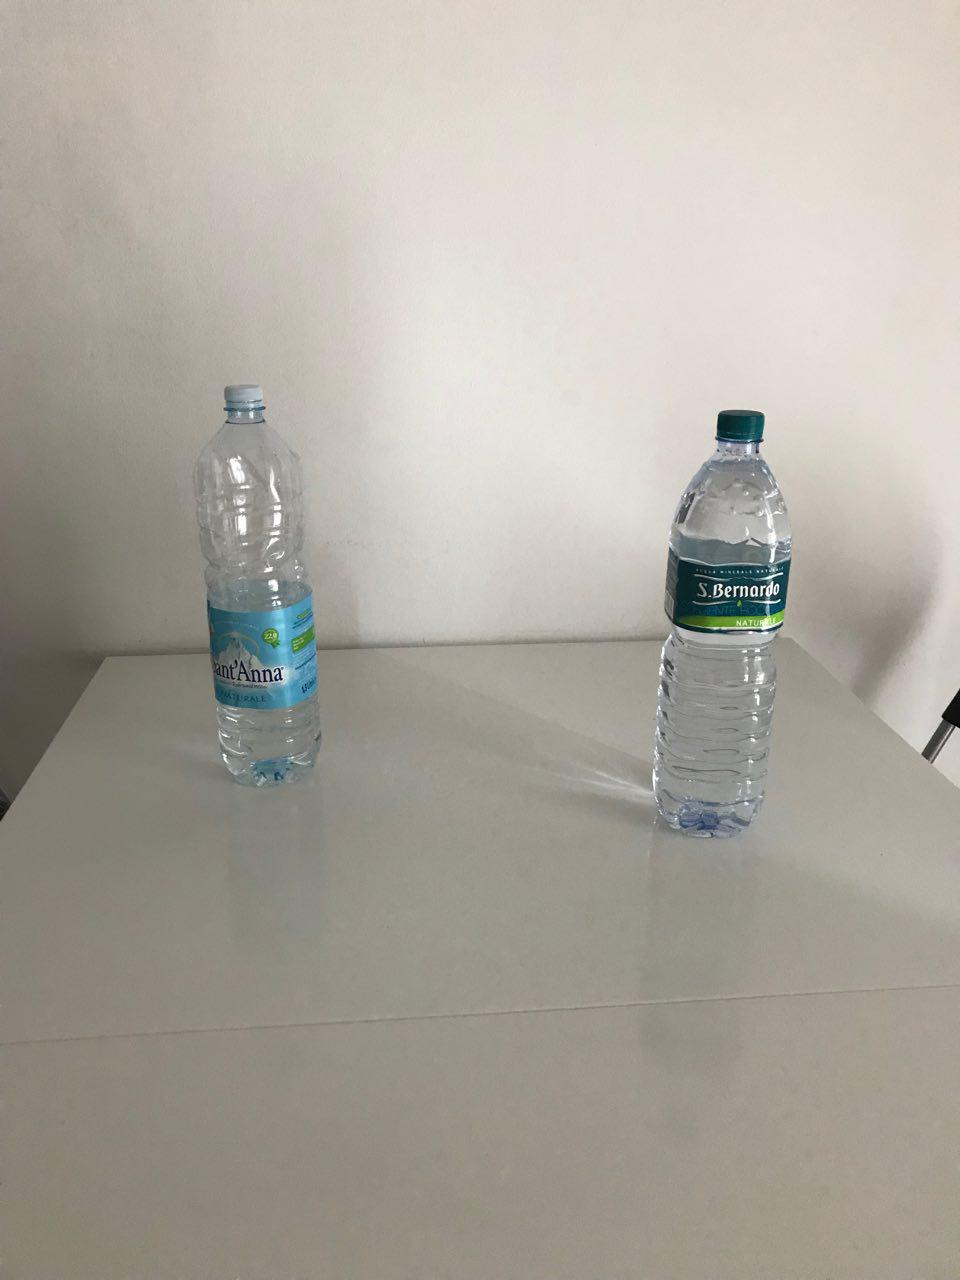san_bernardo: (650, 409, 792, 840)
